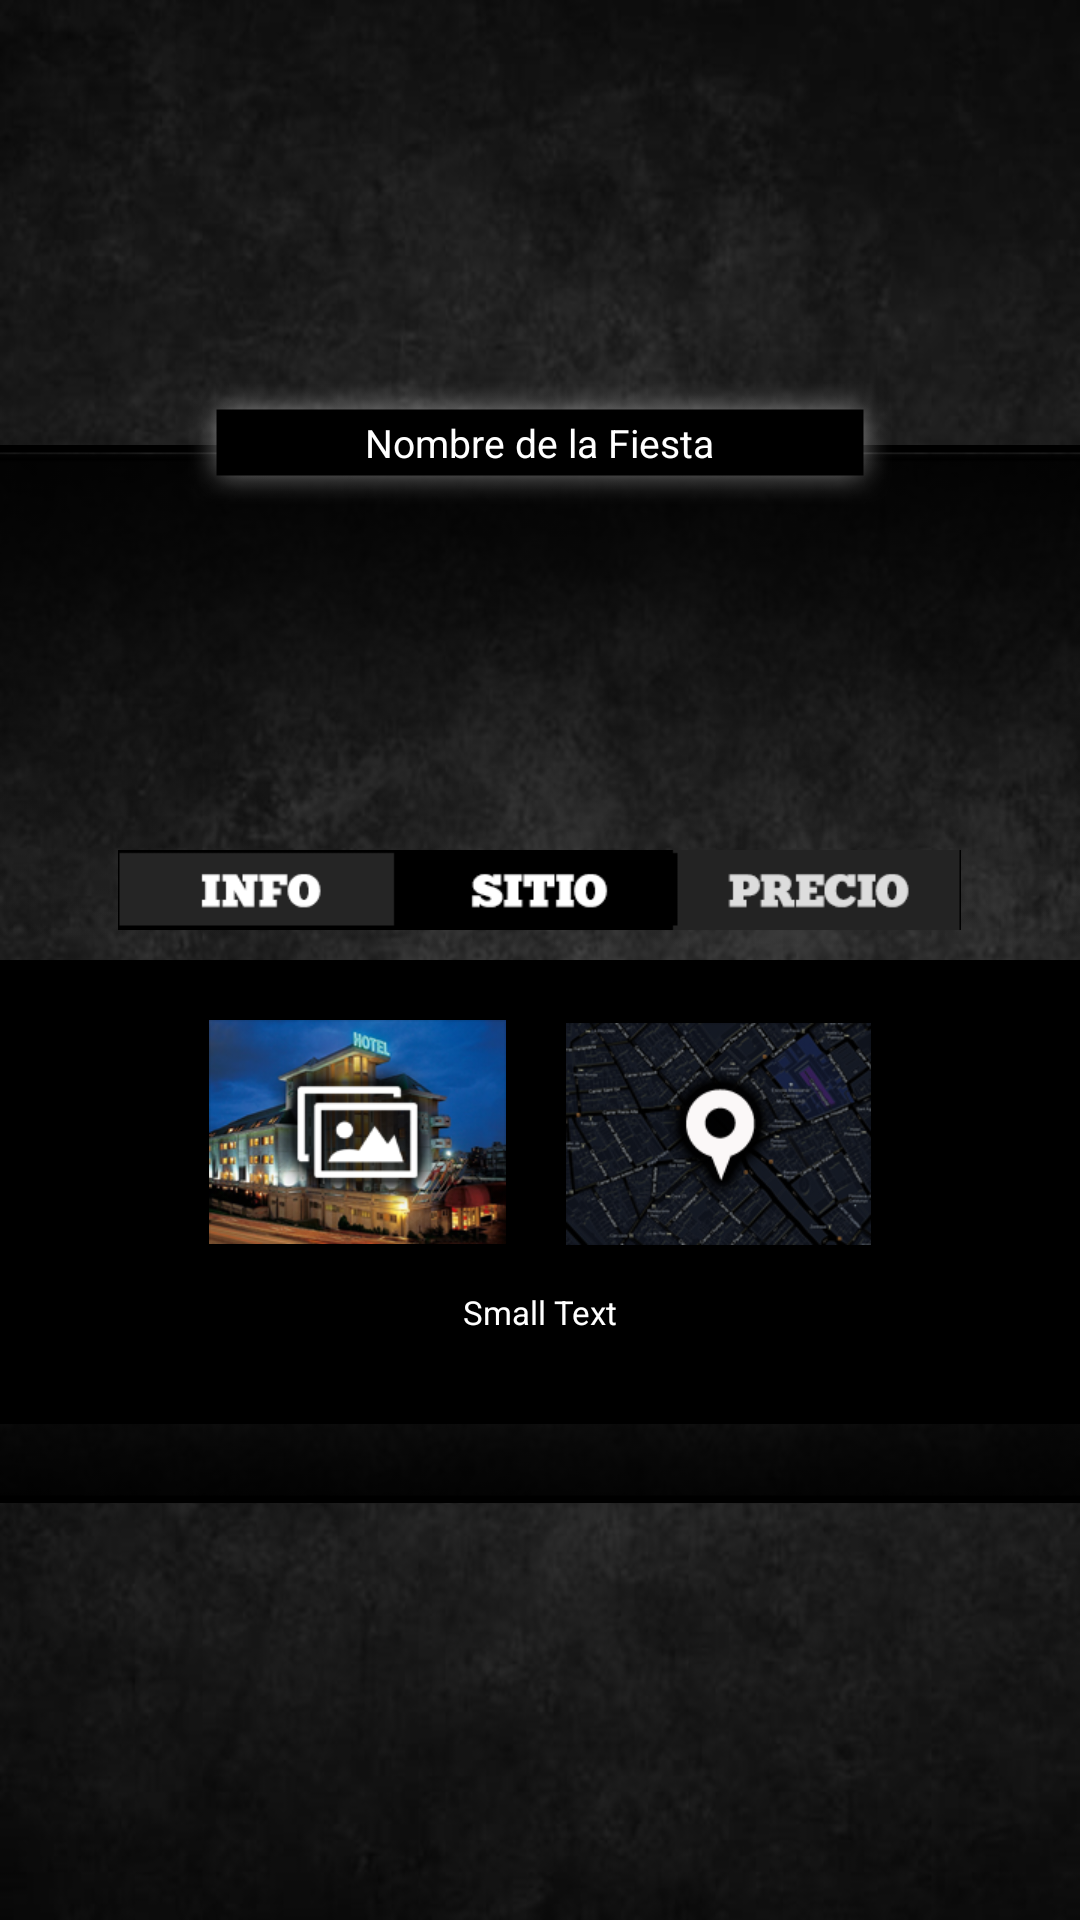

Point at icon controls on the screen. Image size 1080px x 1920px, points as (x,y).
map: (718,1134)
pictures: (357,1132)
